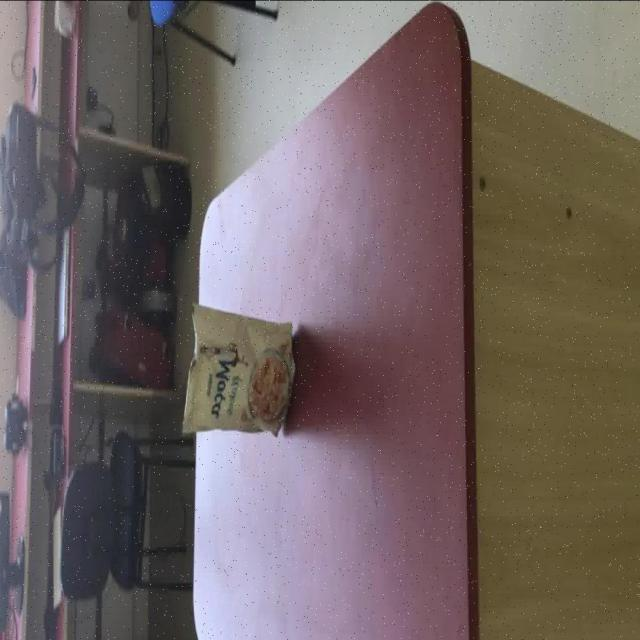CornFlakes: (182, 300, 294, 436), (246, 346, 289, 423)
